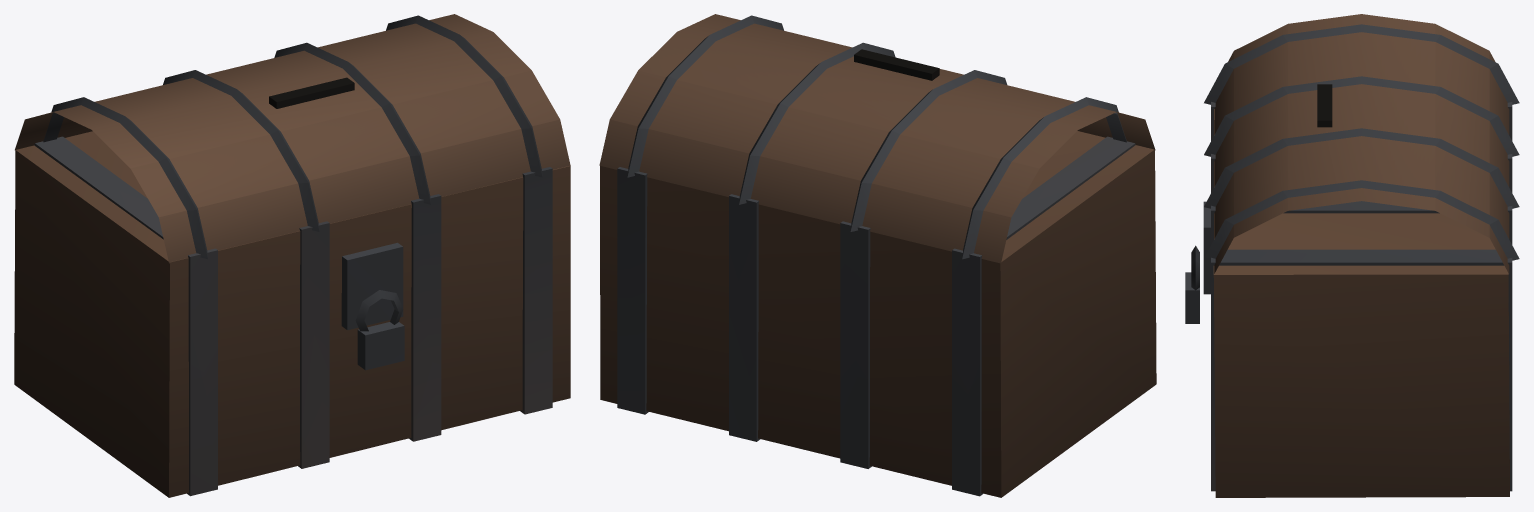
The model's file is ph_int_office_poor_box.glb.
The picture shows the model from 3 angles, left to right: view 1: azimuth 30°, elevation 25°; view 2: azimuth 150°, elevation 25°; view 3: azimuth 270°, elevation 25°; orthographic projection. The views are drawn at different scales.
Visible parts, largest first — view 1: ph_int_office_poor_box; view 2: ph_int_office_poor_box; view 3: ph_int_office_poor_box.
Boxes of the visible parts, x1,y1,x2,y2 form: ph_int_office_poor_box: [14, 14, 570, 497]; ph_int_office_poor_box: [599, 14, 1156, 497]; ph_int_office_poor_box: [1185, 14, 1519, 497].
Bounding box in the file's own units: 0.7226 × 0.5463 × 0.544.
